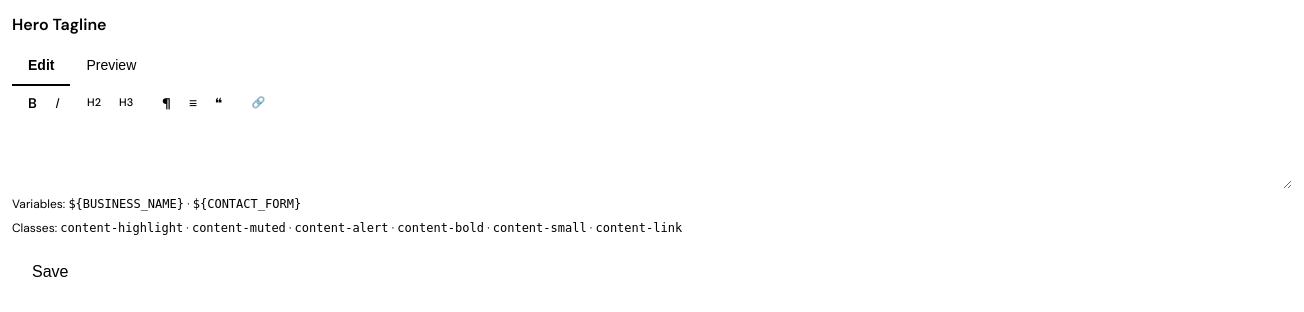
Test: ContentEditor › shows "Saved ✓" after successful save
Click the button "Save" at x=50, y=272, box [12, 248, 88, 296]
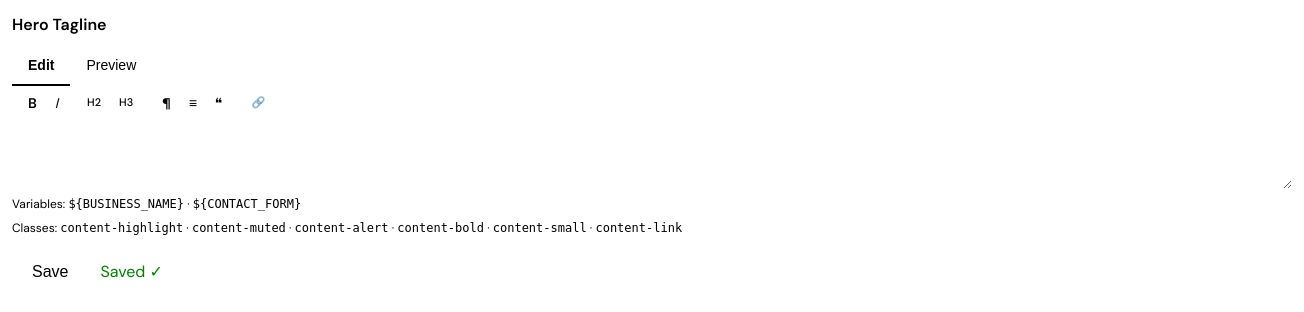
expect the text "Saved ✓" is shown: met, box [100, 259, 163, 285]
